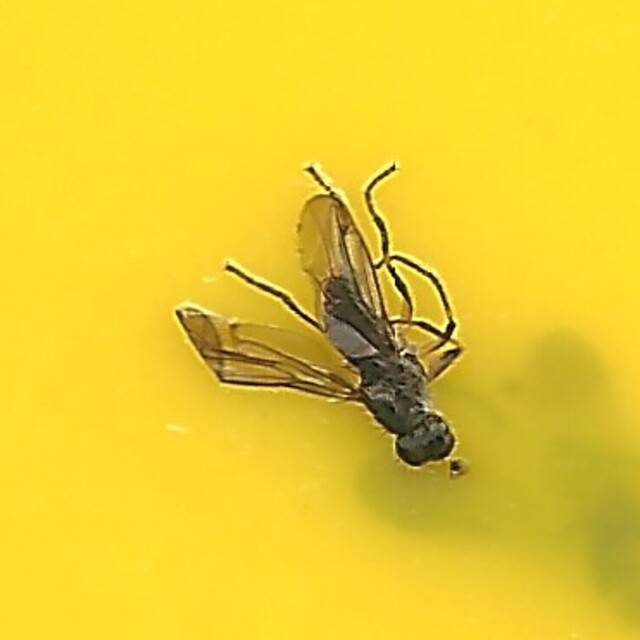Brachycera: (173, 162, 467, 478)
